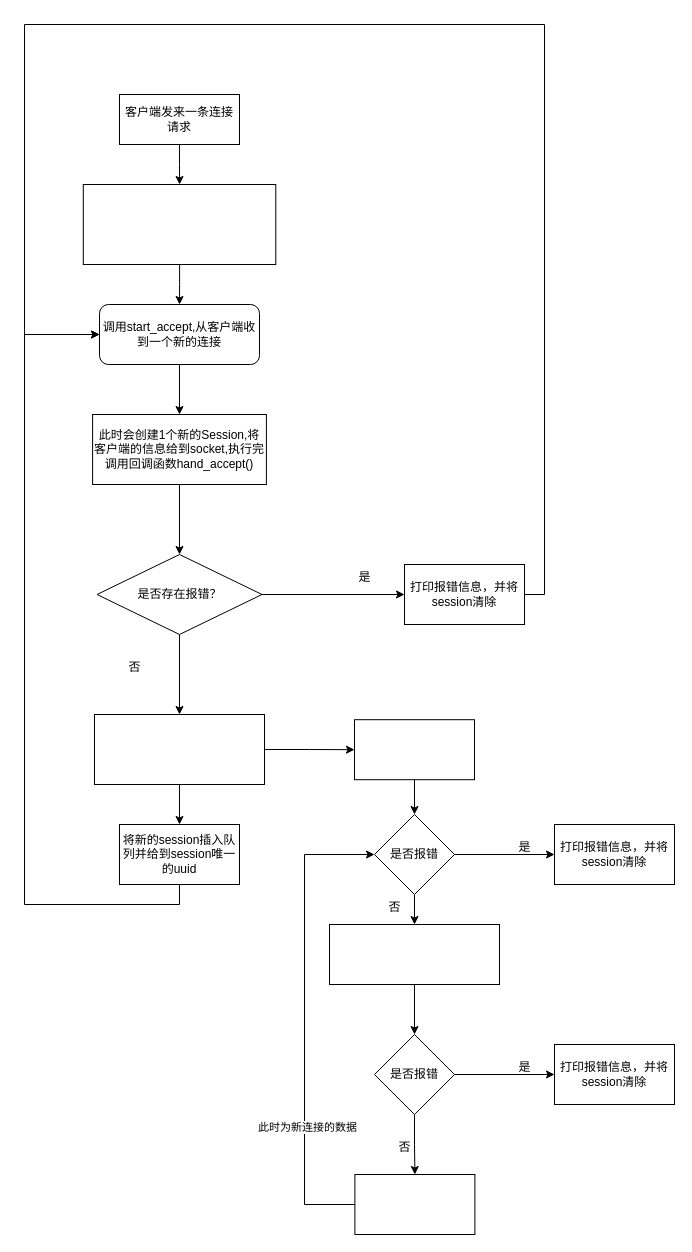
Image size: 692x1252. Some labels were removed from this diagram. Here are the shapes that lost their labels. From the top down, the centre of each, then its label:
At (x=179, y=224): "调用Sever构造端点，打印端口号，并调用start_accept()".
At (x=179, y=749): "新建立的Session会调用start()函数开始读写操作".
At (x=414, y=749): "调用start(),将data清空，并进行异步读，执行完调用回调读".
At (x=414, y=954): "打印收到的消息，然后异步读更多数据，同时调用异步写函数，执行完调用回调写函数".
At (x=414, y=1204): "清空数据数组，调用异步读函数，执行完调用回调写函数".
